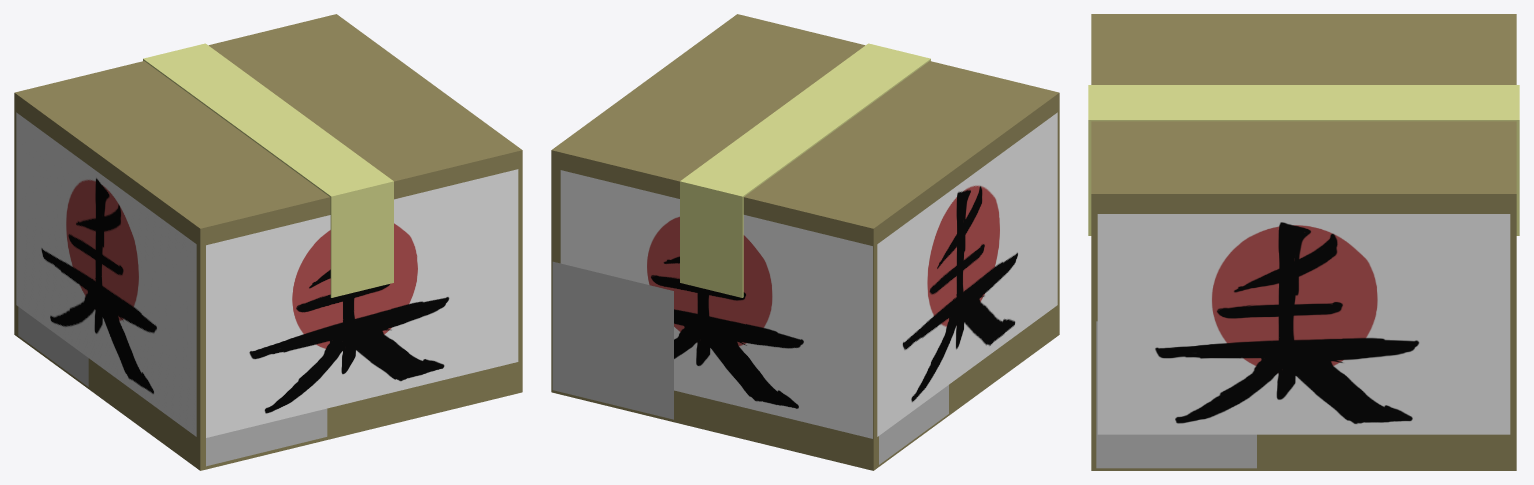
Rendered from kruhy_sushi_box.fbx.
3 renders of one model, left to right at view 1: azimuth 30°, elevation 25°; view 2: azimuth 150°, elevation 25°; view 3: azimuth 270°, elevation 25°, orthographic. The views are drawn at different scales.
Parts seen in each view (by area): view 1: Cube, japon.002, japon.001, Cube.001, WAGA_SZKO_1V2.003, WAGA_SZKO_1V2.001; view 2: Cube, japon.003, japon.001, Cube.001, WAGA_SZKO_1V2.002, WAGA_SZKO_1V2.001; view 3: japon, Cube, Cube.001, WAGA_SZKO_1V2.
Part boxes in pixels (x1,y1,x2,y2): Cube: (14,14,522,470); japon.002: (206,169,518,437); japon.001: (16,112,196,436); Cube.001: (143,43,393,297); WAGA_SZKO_1V2.003: (206,408,327,466); WAGA_SZKO_1V2.001: (18,307,88,386); Cube: (551,14,1059,470); japon.003: (560,170,872,438); japon.001: (877,112,1057,436); Cube.001: (680,43,930,297); WAGA_SZKO_1V2.002: (552,261,673,419); WAGA_SZKO_1V2.001: (879,385,948,464); japon: (1097,214,1510,434); Cube: (1091,14,1516,470); Cube.001: (1088,85,1519,235); WAGA_SZKO_1V2: (1096,321,1256,468).
Size of the model in its own units: 105 by 75.29 by 106.
